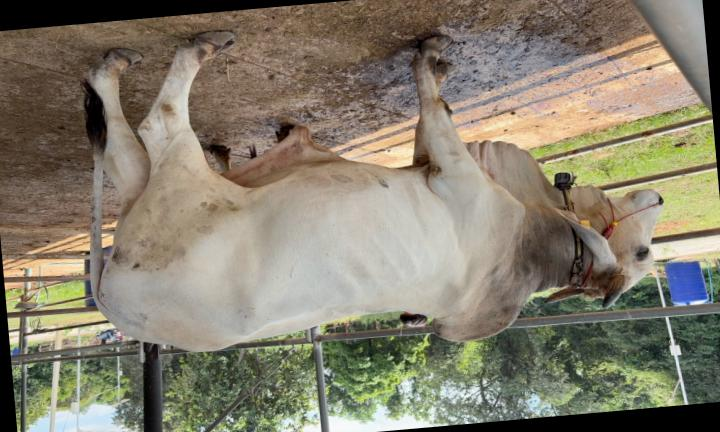Brahman: (84, 31, 662, 351), (85, 32, 662, 351)
